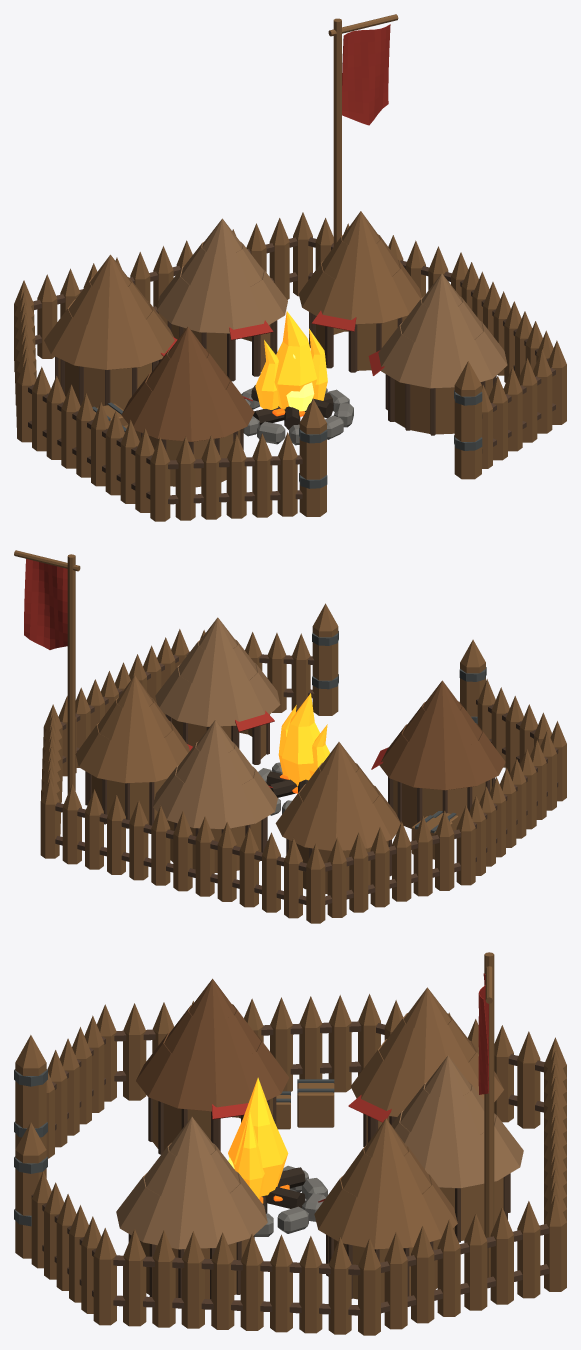
The model's file is village-draft.glb.
The picture shows the model from 3 angles, top to bottom: view 1: azimuth 30°, elevation 25°; view 2: azimuth 150°, elevation 25°; view 3: azimuth 270°, elevation 25°; orthographic projection. The views are drawn at different scales.
Visible parts, largest first — view 1: Weathered oak, Sun faded hide roofing, Warm hide roofing, Dark hide roofing, Dark timber frame, VillageBanner, Campfire flame, Fire ring stone, Blackened iron, Settlement entrance cloth, Campfire flame.001, Charred firewood (+1 smaller); view 2: Weathered oak, Sun faded hide roofing, Warm hide roofing, Dark hide roofing, Dark timber frame, VillageBanner, Campfire flame, Blackened iron, Charred firewood, Settlement entrance cloth, Campfire flame.001; view 3: Weathered oak, Sun faded hide roofing, Warm hide roofing, Dark hide roofing, Dark timber frame, Campfire flame, Fire ring stone, Blackened iron, Campfire flame.002, VillageBanner, Charred firewood, Settlement entrance cloth.
Part boxes in pixels (bbox=[...]): Weathered oak: bbox=[14, 14, 566, 521]; Sun faded hide roofing: bbox=[156, 218, 507, 388]; Warm hide roofing: bbox=[44, 211, 421, 369]; Dark hide roofing: bbox=[121, 326, 254, 441]; Dark timber frame: bbox=[28, 237, 555, 504]; VillageBanner: bbox=[342, 24, 390, 125]; Campfire flame: bbox=[274, 311, 317, 409]; Fire ring stone: bbox=[241, 388, 353, 445]; Blackened iron: bbox=[92, 390, 482, 488]; Settlement entrance cloth: bbox=[161, 310, 384, 401]; Campfire flame.001: bbox=[255, 340, 278, 409]; Charred firewood: bbox=[251, 385, 333, 429]; Weathered oak: bbox=[14, 550, 566, 923]; Sun faded hide roofing: bbox=[153, 617, 280, 829]; Warm hide roofing: bbox=[75, 675, 400, 850]; Dark hide roofing: bbox=[379, 680, 505, 790]; Dark timber frame: bbox=[55, 651, 558, 904]; VillageBanner: bbox=[24, 559, 67, 649]; Campfire flame: bbox=[282, 693, 329, 786]; Blackened iron: bbox=[312, 631, 486, 832]; Charred firewood: bbox=[266, 771, 308, 797]; Settlement entrance cloth: bbox=[187, 710, 388, 787]; Campfire flame.001: bbox=[309, 724, 329, 776]; Weathered oak: bbox=[15, 952, 566, 1335]; Sun faded hide roofing: bbox=[116, 1055, 523, 1249]; Warm hide roofing: bbox=[314, 987, 503, 1249]; Dark hide roofing: bbox=[136, 978, 289, 1111]; Dark timber frame: bbox=[31, 1021, 549, 1315]; Campfire flame: bbox=[228, 1077, 288, 1196]; Fire ring stone: bbox=[254, 1165, 327, 1236]; Blackened iron: bbox=[14, 1069, 334, 1226]; Campfire flame.002: bbox=[234, 1110, 264, 1198]; VillageBanner: bbox=[478, 973, 488, 1094]; Charred firewood: bbox=[261, 1167, 305, 1213]; Settlement entrance cloth: bbox=[212, 1095, 391, 1202].
Bounding box in the file's own units: 1.45 × 0.9 × 1.34.
